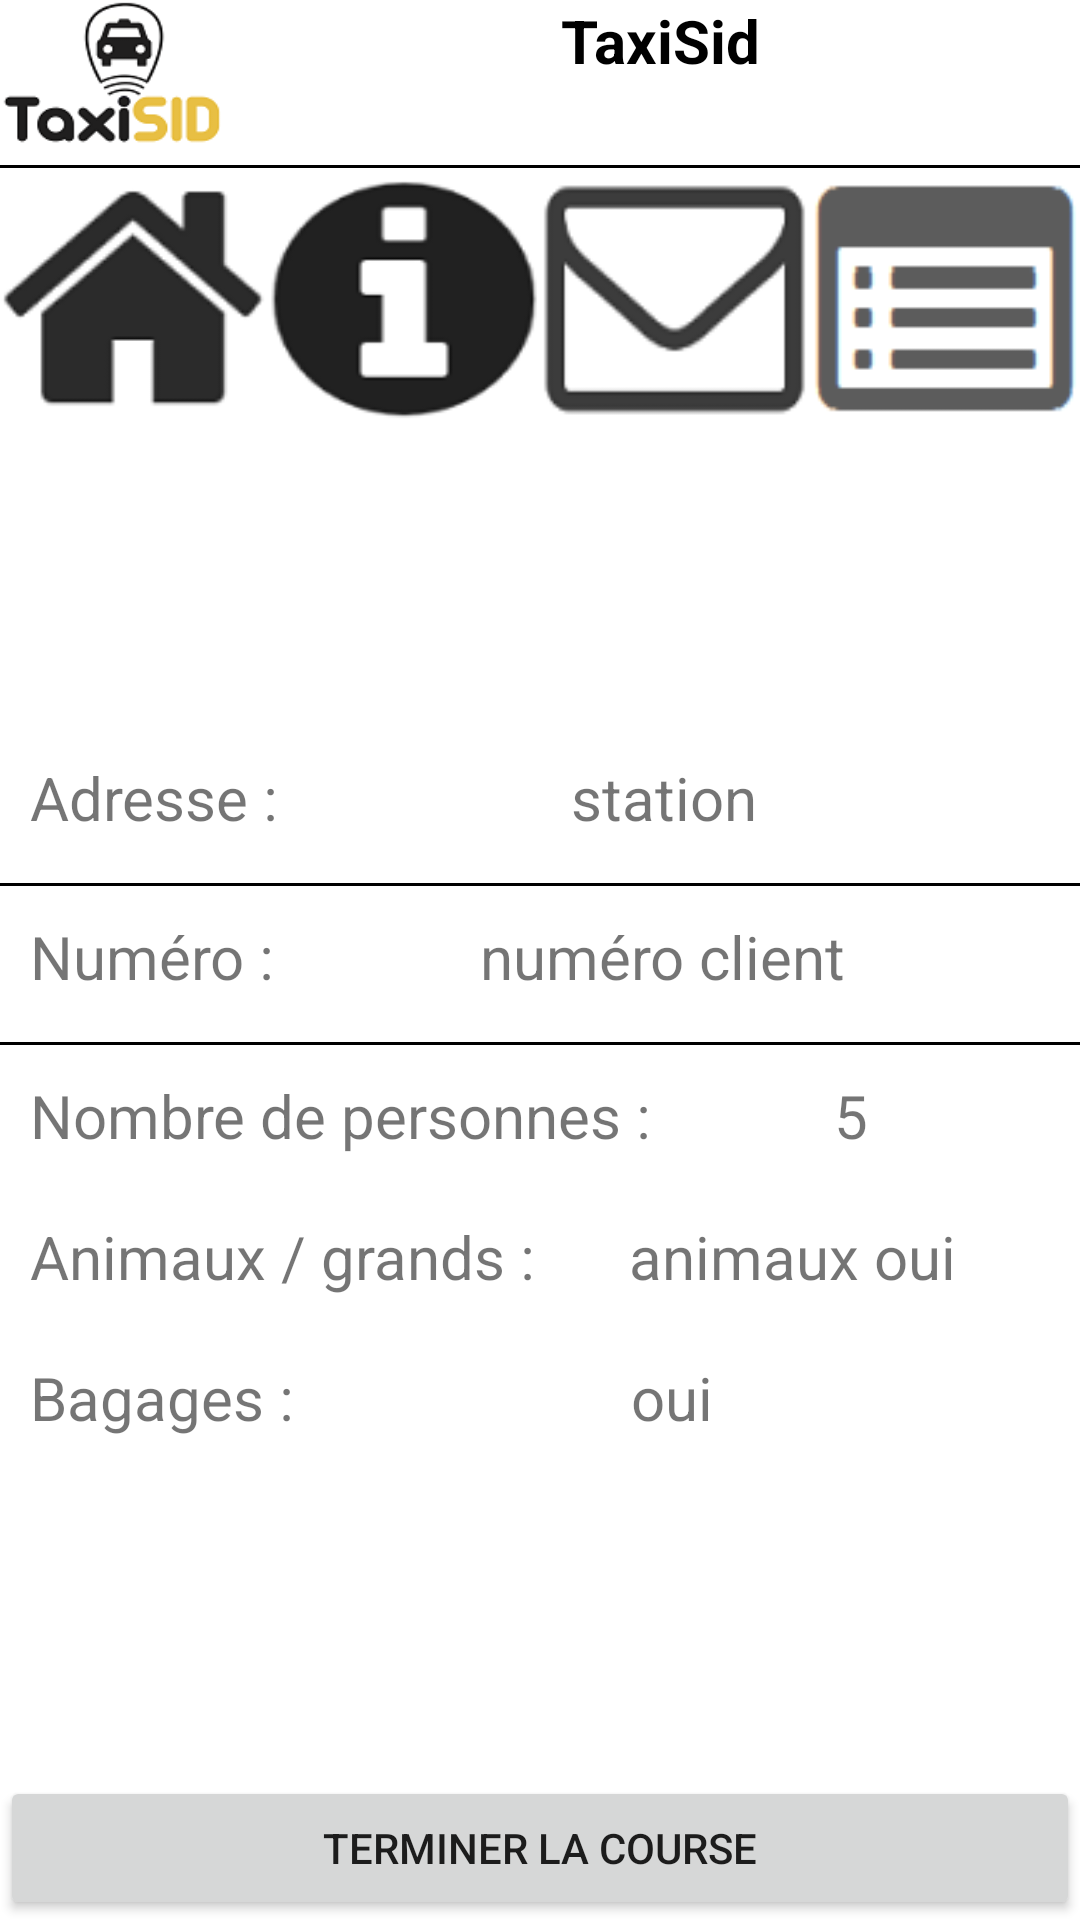

Point at icon controls on the screen. Image size 1080 x 1920, points as [x,y].
enveloppe: [674,299]
home: [133,298]
